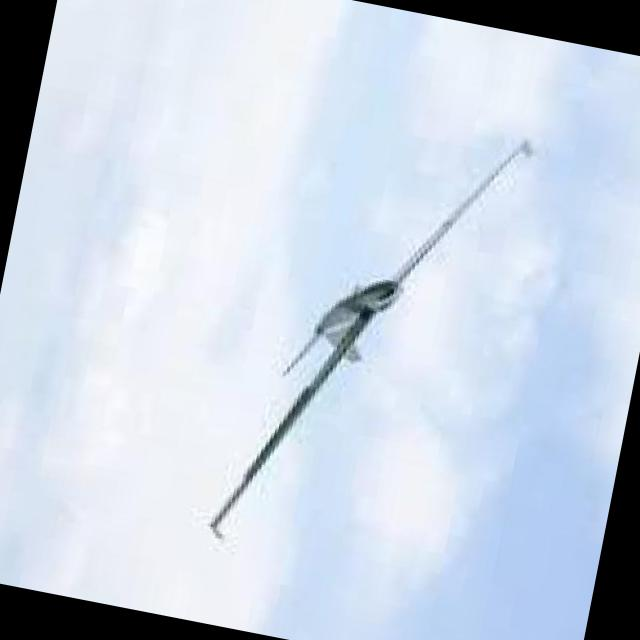UAV: (194, 101, 535, 555)
